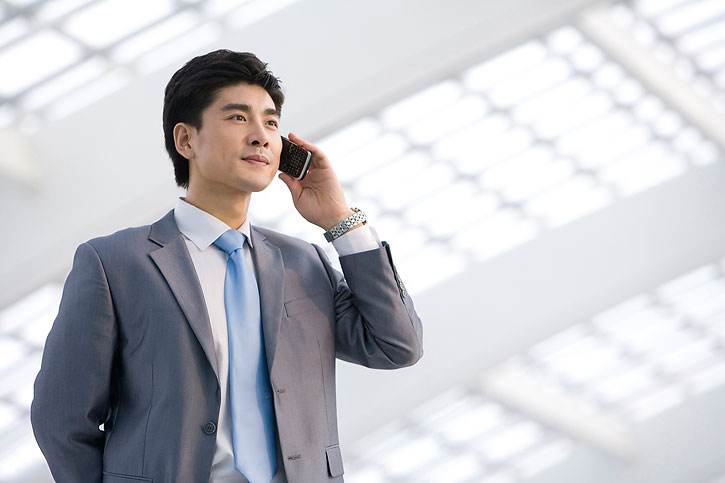calling: (273, 129, 346, 224)
